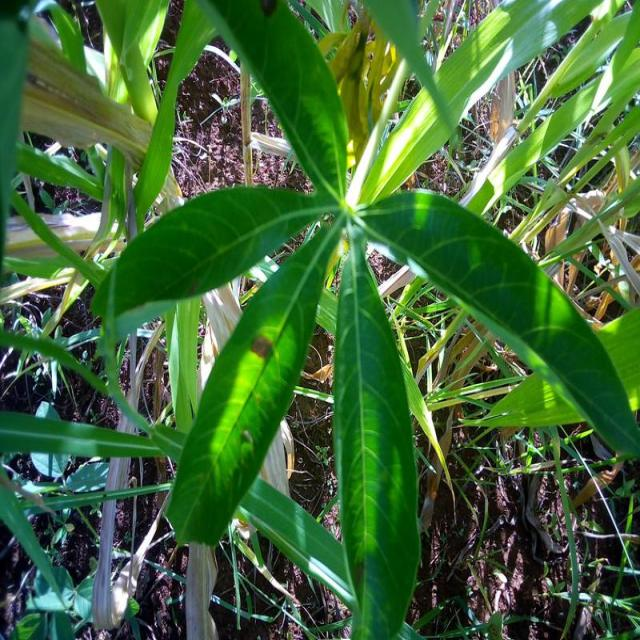cassava leaf: (88, 0, 638, 637), (354, 186, 638, 459), (162, 219, 341, 546), (331, 225, 422, 638)
